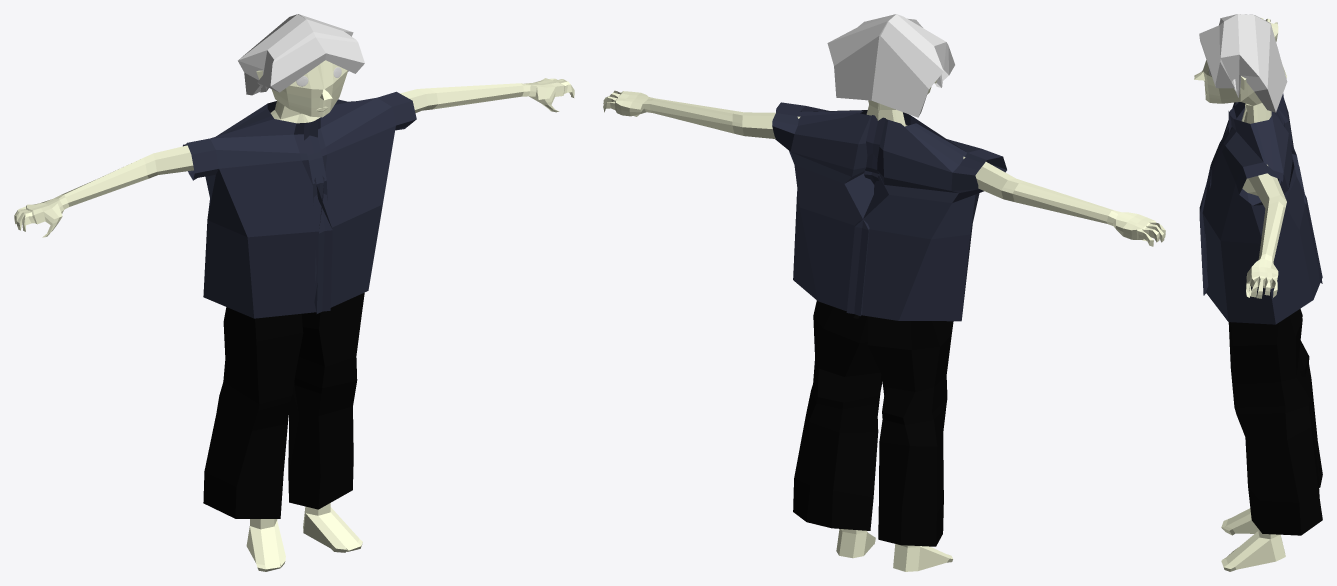
File: ClothedTimmy.fbx
3 renders of one model, left to right at view 1: azimuth 30°, elevation 25°; view 2: azimuth 150°, elevation 25°; view 3: azimuth 270°, elevation 25°, orthographic.
Parts seen in each view (by area): view 1: Cube; view 2: Cube; view 3: Cube.
Part boxes in pixels (x1,y1,x2,y2): Cube: (14, 14, 574, 571); Cube: (603, 14, 1165, 571); Cube: (1194, 14, 1322, 571).
Size of the model in its own units: 198 by 183 by 40.
